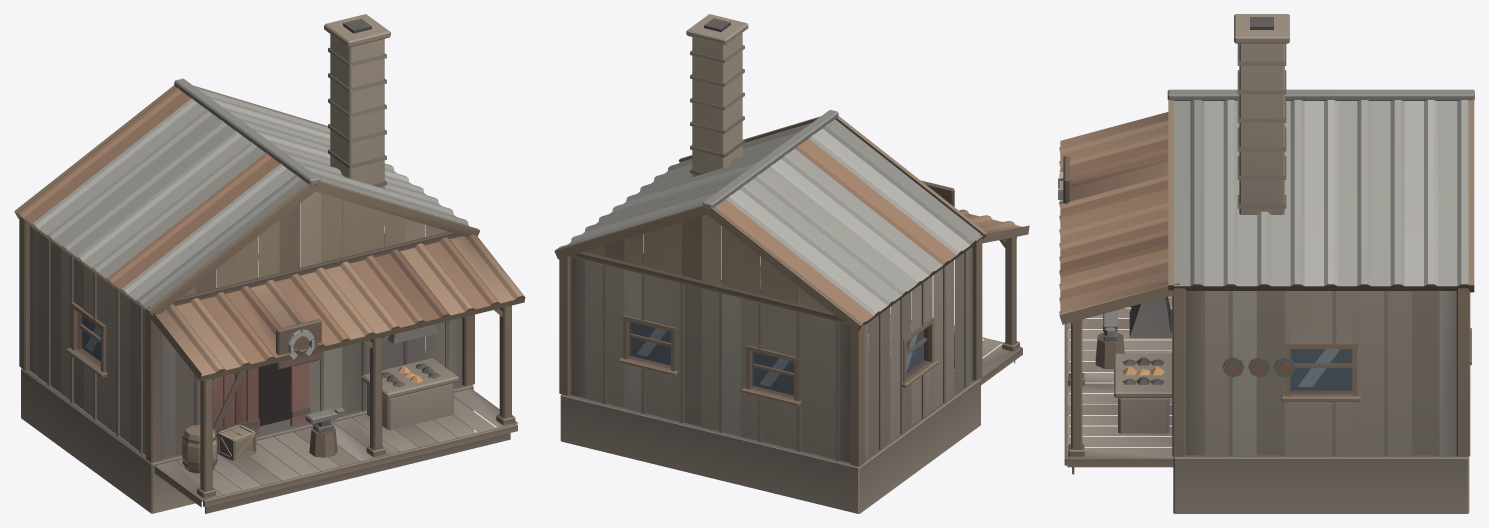
File: house_8.glb
The picture shows the model from 3 angles, left to right: view 1: azimuth 30°, elevation 25°; view 2: azimuth 150°, elevation 25°; view 3: azimuth 270°, elevation 25°; orthographic projection. The views are drawn at different scales.
Bounding box in the file's own units: 7.47 × 8.67 × 7.28.
